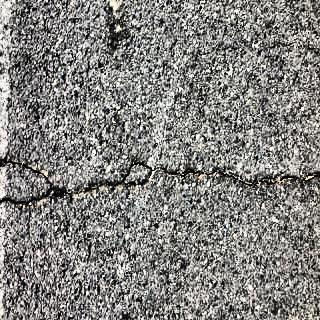crack: (0, 148, 320, 212)
